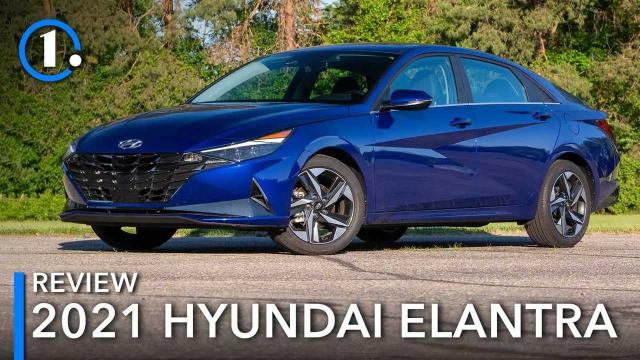hyundai: (57, 43, 621, 255)
